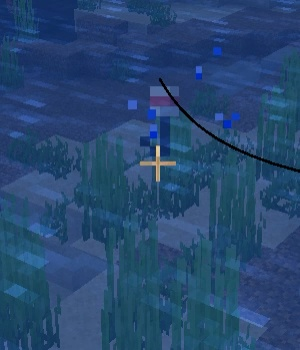up: (139, 80, 182, 152)
